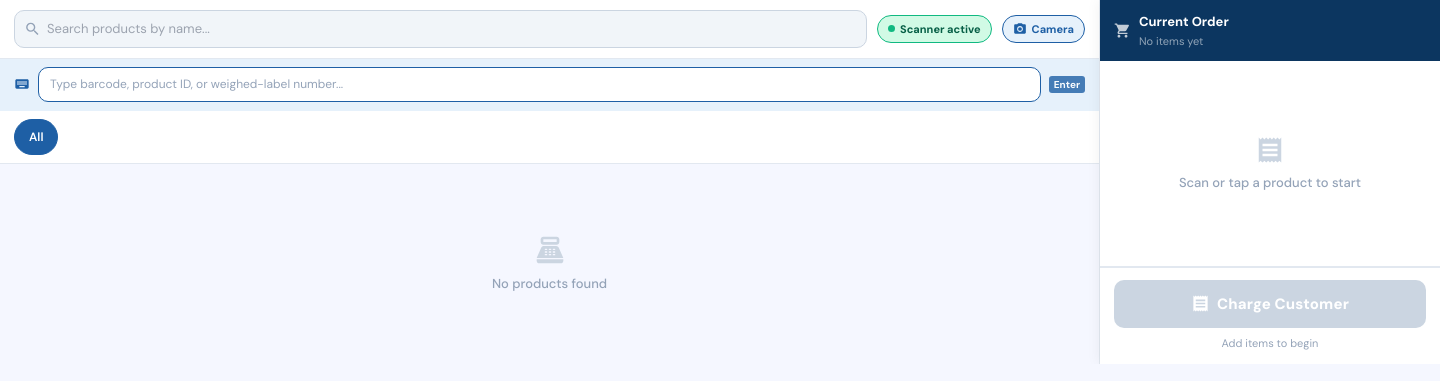
Scenario: manual code entry › shows no-match message when code matches nothing
In the field with placeholder "Type barcode, product ID, or weighed-label number...": (539, 84) [38,66,1041,102], type "xyz-unknown"
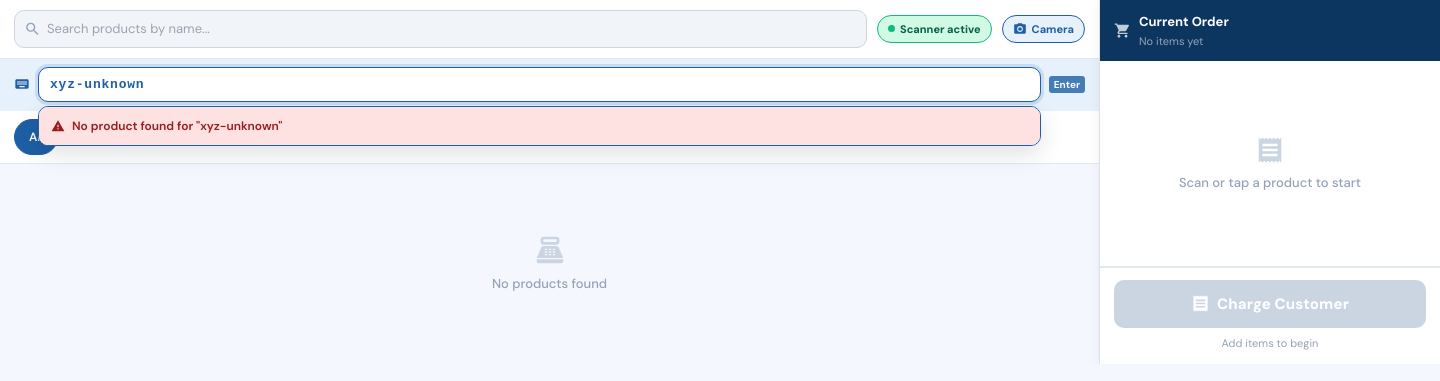
Expected: the text "No product found for \"xyz-unknown\"" is shown, [39,107,1040,145]
